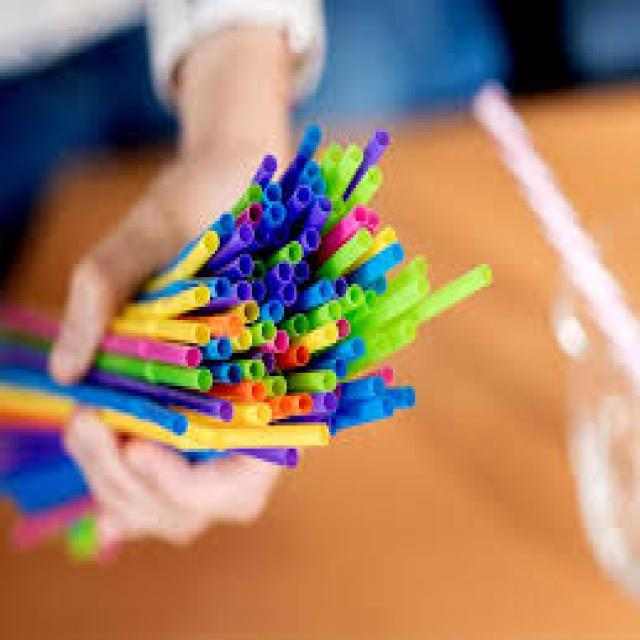plastic: (0, 360, 197, 451)
